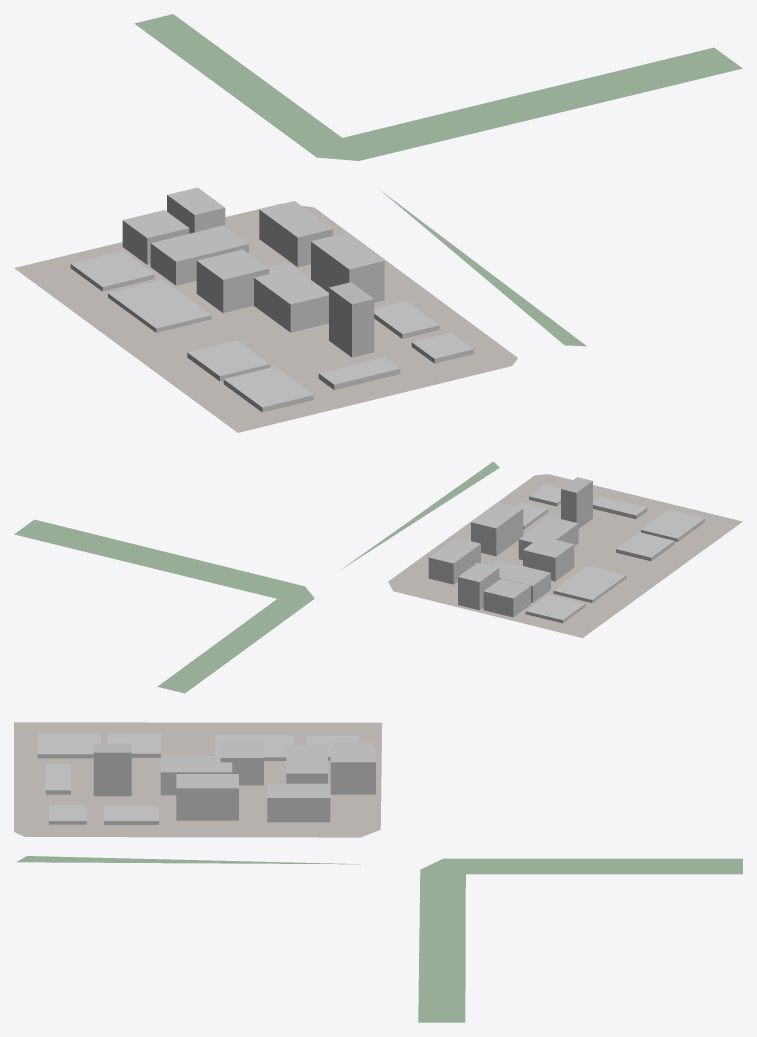
Rendered from 124_72_mid.glb.
3 views of the same model, one above another, from view 1: azimuth 30°, elevation 25°; view 2: azimuth 150°, elevation 25°; view 3: azimuth 270°, elevation 25° (orthographic). The views are drawn at different scales.
Bounding box in the file's own units: 488 × 33.28 × 500.
